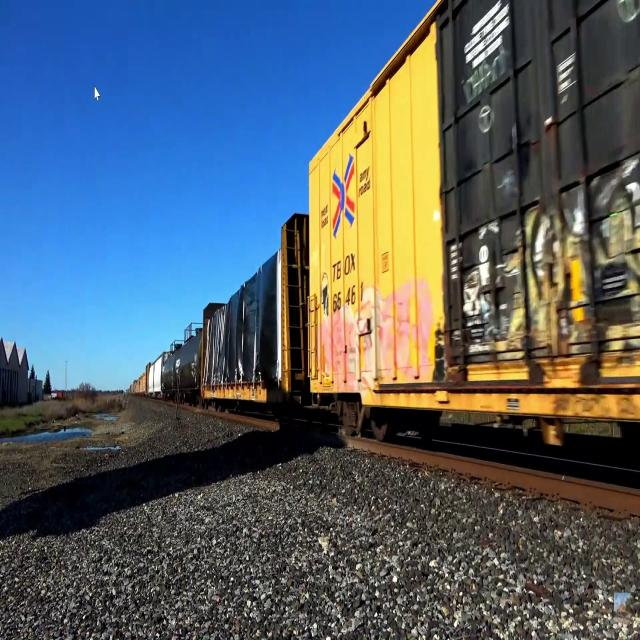boxcar: (304, 0, 640, 459)
cargo: (204, 245, 280, 382)
flatcar_bulkhead: (199, 208, 308, 416)
tank: (174, 321, 202, 409)
